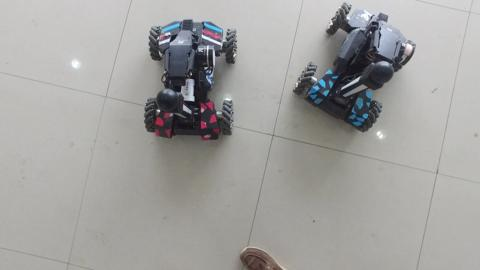chariot: (288, 2, 423, 135), (136, 13, 244, 146)
